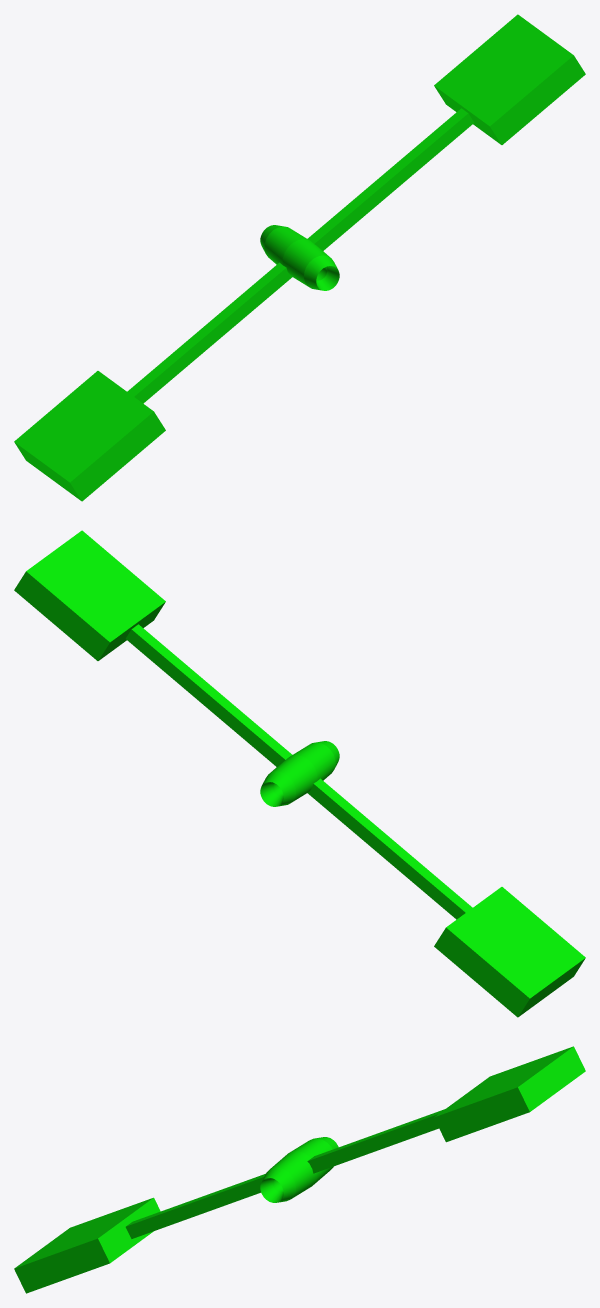
File: Huriko 1.fbx
3 renders of one model, top to bottom at view 1: azimuth 30°, elevation 25°; view 2: azimuth 150°, elevation 25°; view 3: azimuth 330°, elevation 25°, orthographic.
Visible parts, largest first — view 1: pCube20, pCube19, pCube21, pCube27, pTorus2; view 2: pCube20, pCube19, pCube21, pCube27, pTorus2; view 3: pCube19, pCube20, pTorus2, pCube27, pCube21.
Boxes of the visible parts, left/top/right/bottom form: pCube20: left=14, top=371, right=165, bottom=501; pCube19: left=434, top=14, right=585, bottom=144; pCube21: left=307, top=108, right=474, bottom=250; pCube27: left=127, top=262, right=292, bottom=403; pTorus2: left=260, top=225, right=339, bottom=290; pCube20: left=434, top=887, right=585, bottom=1017; pCube19: left=14, top=530, right=165, bottom=660; pCube21: left=125, top=624, right=292, bottom=766; pCube27: left=307, top=778, right=472, bottom=919; pTorus2: left=260, top=741, right=339, bottom=806; pCube19: left=434, top=1046, right=585, bottom=1142; pCube20: left=14, top=1197, right=160, bottom=1293; pTorus2: left=260, top=1137, right=338, bottom=1202; pCube27: left=125, top=1173, right=265, bottom=1238; pCube21: left=307, top=1109, right=444, bottom=1173.
Size of the model in its own units: 10.64 by 6.43 by 2.
